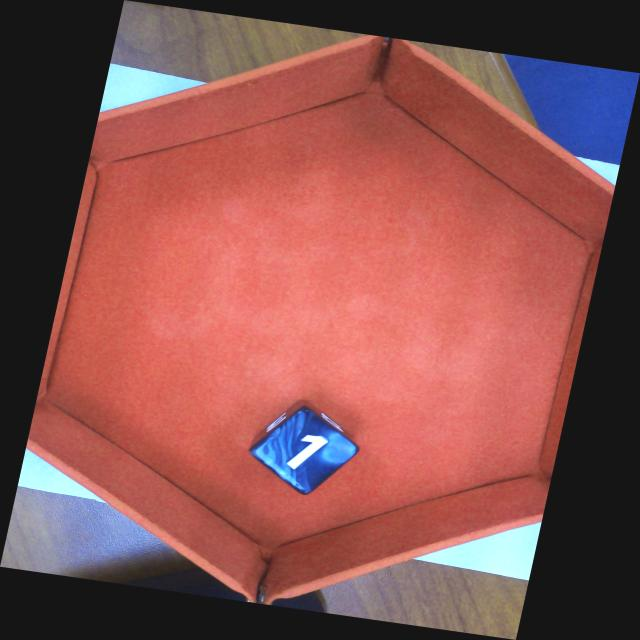dice: (246, 402, 363, 499)
